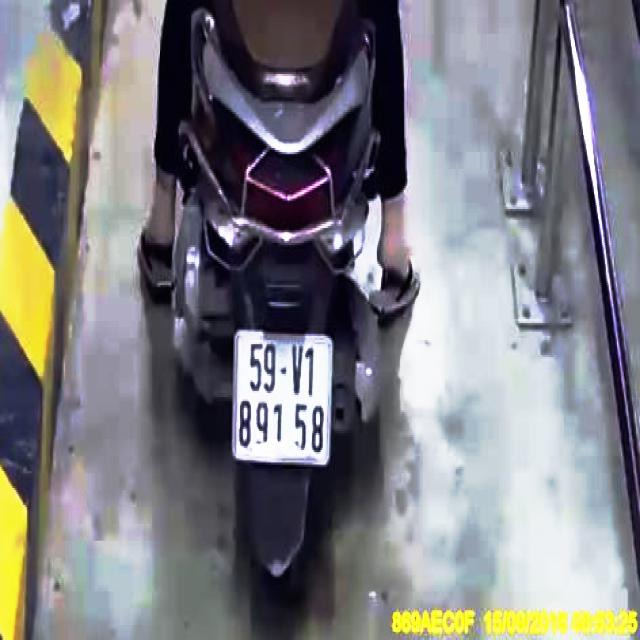license_plate: (235, 332, 337, 468)
